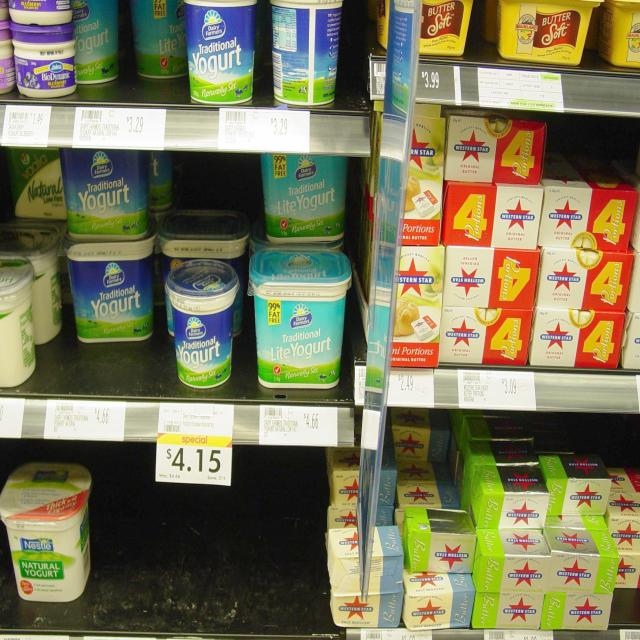empty_space: (106, 494, 320, 622), (69, 345, 162, 403)
